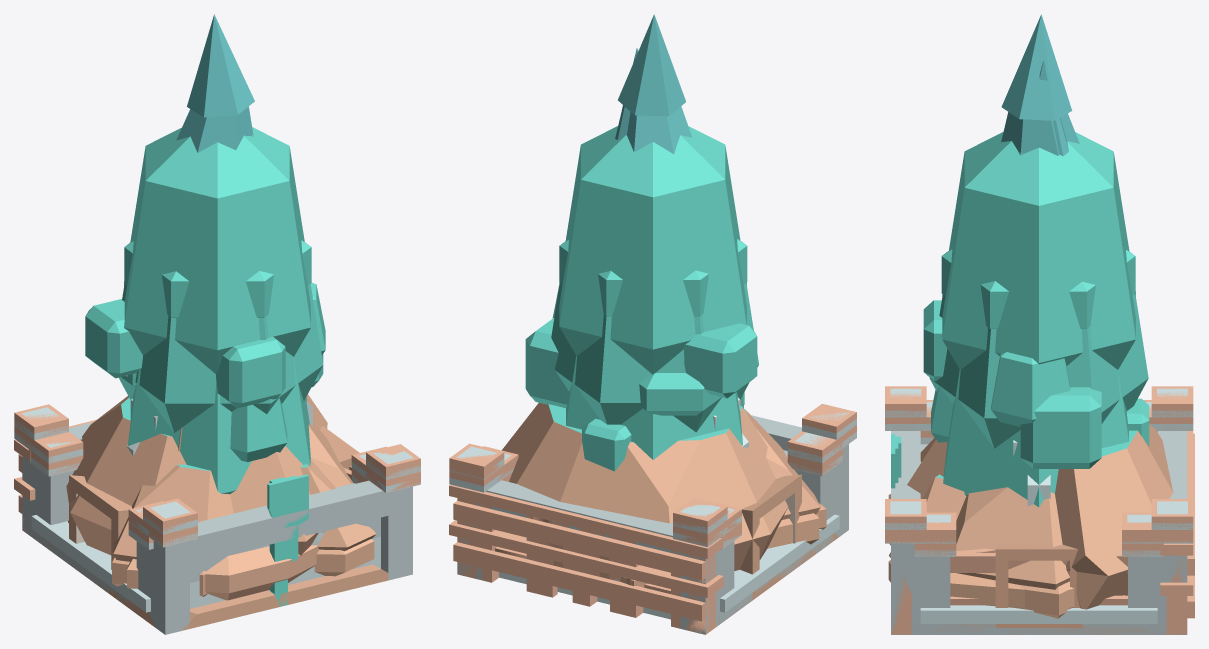
File: nature.glb
The picture shows the model from 3 angles, left to right: view 1: azimuth 30°, elevation 25°; view 2: azimuth 150°, elevation 25°; view 3: azimuth 270°, elevation 25°; orthographic projection. The views are drawn at different scales.
Parts seen in each view (by area): view 1: tree_default, bridge_stone, rock_largeD, bridge_stoneRound, tree_oak, tree_detailed, tree_fat, tree_pineTallD, rock_largeF, rock_largeC, bridge_stoneNarrow, tree_thin (+13 smaller); view 2: tree_default, rock_largeD, fence_planks, tree_detailed, tree_oak, tree_pineTallD, bridge_stoneRound, bridge_stone, tree_plateau, fence_simpleLow, tree_fat, fence_simpleHigh (+13 smaller); view 3: tree_default, rock_largeD, bridge_stone, tree_detailed, tree_oak, rock_largeF, tree_fat, bridge_stoneNarrow, tree_pineTallD, bridge_stoneRound, tree_thin, bridge_woodRound (+17 smaller).
Part boxes in pixels (box(x1,y1,x2,y2)): tree_default: box(124, 127, 310, 373); bridge_stone: box(14, 432, 420, 634); rock_largeD: box(66, 394, 327, 555); bridge_stoneRound: box(14, 407, 420, 633); tree_oak: box(119, 284, 323, 432); tree_detailed: box(85, 299, 323, 408); tree_fat: box(128, 356, 310, 494); tree_pineTallD: box(176, 14, 254, 152); rock_largeF: box(113, 423, 353, 561); rock_largeC: box(127, 545, 318, 600); bridge_stoneNarrow: box(29, 457, 359, 603); tree_thin: box(230, 283, 325, 461); tree_default: box(559, 126, 746, 374); rock_largeD: box(502, 403, 787, 570); fence_planks: box(453, 501, 705, 628); tree_detailed: box(525, 318, 757, 471); tree_oak: box(551, 282, 758, 432); tree_pineTallD: box(618, 14, 692, 153); bridge_stoneRound: box(449, 411, 856, 634); bridge_stone: box(449, 432, 856, 634); tree_plateau: box(559, 239, 747, 415); fence_simpleLow: box(449, 520, 723, 629); tree_fat: box(566, 356, 743, 459); fence_simpleHigh: box(449, 484, 723, 631); tree_default: box(942, 132, 1135, 369); rock_largeD: box(907, 424, 1173, 609); bridge_stone: box(885, 424, 1193, 634); tree_detailed: box(923, 300, 1149, 468); tree_oak: box(929, 294, 1148, 448); rock_largeF: box(920, 437, 1069, 589); tree_fat: box(943, 369, 1128, 506); bridge_stoneNarrow: box(914, 437, 1163, 634); tree_pineTallD: box(1001, 14, 1079, 155); bridge_stoneRound: box(885, 388, 1193, 624); tree_thin: box(931, 352, 1070, 442); bridge_woodRound: box(885, 386, 1193, 529).
Size of the model in its own units: 1.1 by 2.08 by 1.05.
